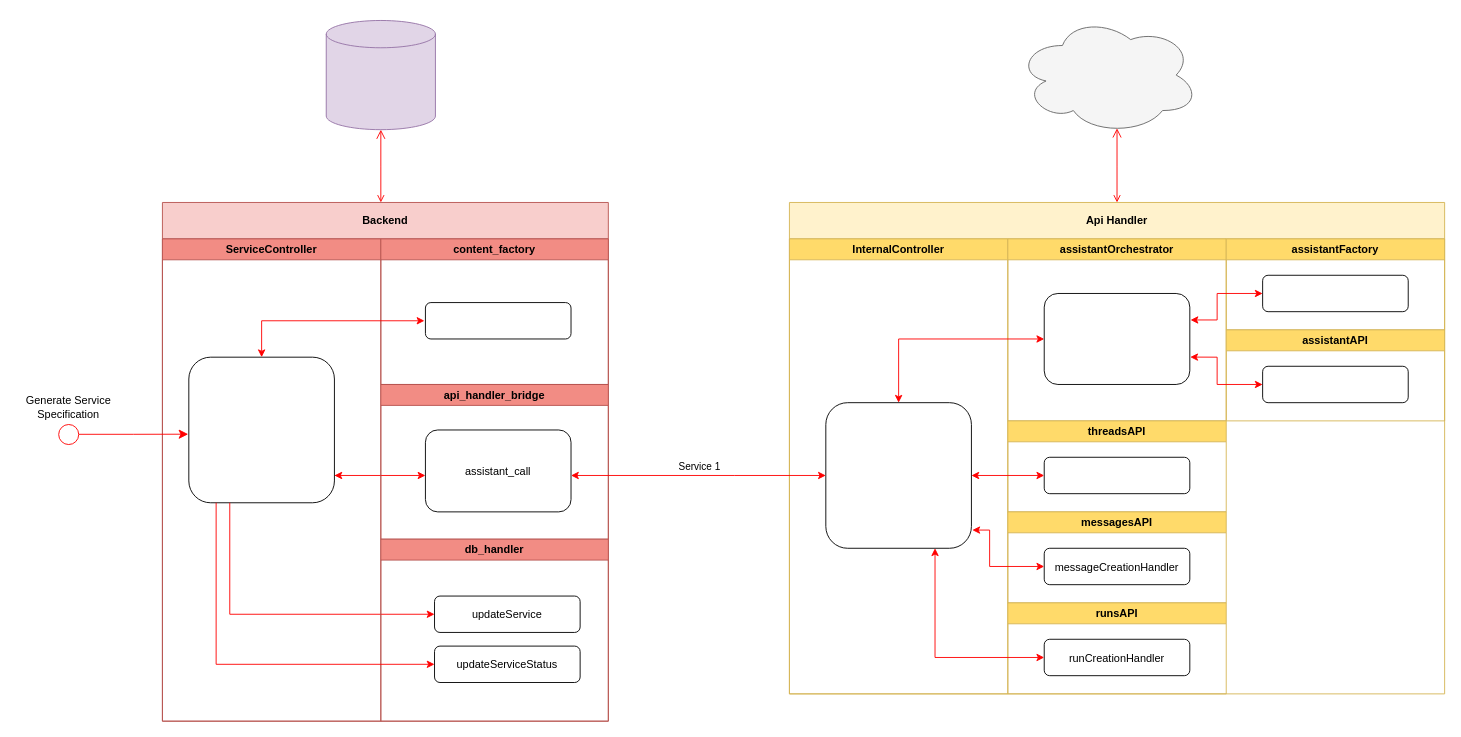
This 1461x737 diagram has some shape labels left out. Each missing label, with the centre of its shape:
"assistantCreation" belongs at pixel 1116 338.
"creationHandler" belongs at pixel 1335 384.
"generateContainer" belongs at pixel 261 429.
"getServiceContent" belongs at pixel 498 320.
"interrogate" belongs at pixel 898 475.
"MongoDB" belongs at pixel 380 75.
"OpenAI API" belongs at pixel 1107 74.
"set_assets" belongs at pixel 1335 293.
"threadCreationHandler" belongs at pixel 1116 475.
